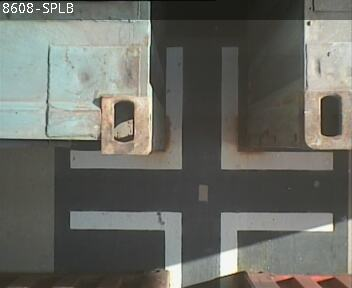groundmarker_1: (69, 50, 332, 168), (70, 211, 333, 288)
